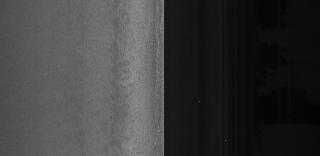silk spot: (105, 56, 136, 96)
